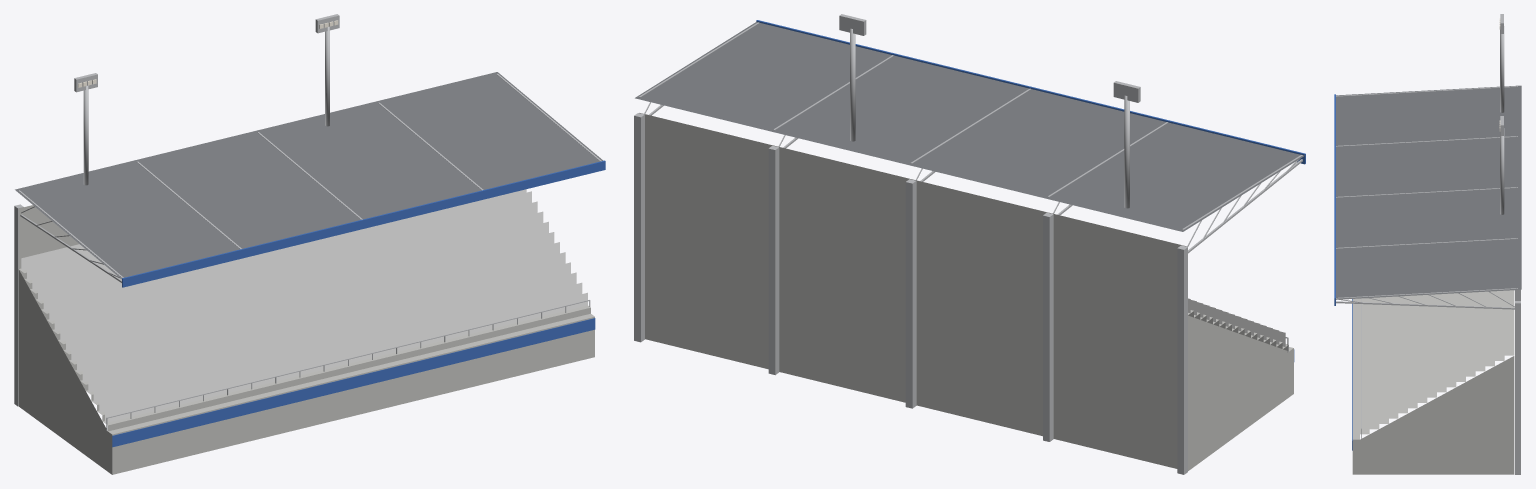
The model's file is grandstand.glb.
3 views of the same model, side by side, from view 1: azimuth 30°, elevation 25°; view 2: azimuth 150°, elevation 25°; view 3: azimuth 270°, elevation 25° (orthographic). The views are drawn at different scales.
Visible parts, largest first — view 1: Crowd_Merged, Roof_Merged, Concrete_Merged, Fascia_Merged, Steel_Merged; view 2: Concrete_Merged, Roof_Merged, Steel_Merged, Fascia_Merged, Crowd_Merged; view 3: Roof_Merged, Concrete_Merged, Steel_Merged, Fascia_Merged.
Part boxes in pixels (box(x1,y1,x2,y2)): Crowd_Merged: box(21, 189, 587, 422); Roof_Merged: box(15, 72, 603, 279); Concrete_Merged: box(18, 205, 594, 474); Fascia_Merged: box(112, 160, 605, 447); Steel_Merged: box(14, 14, 601, 430); Concrete_Merged: box(639, 113, 1293, 470); Roof_Merged: box(635, 22, 1304, 231); Steel_Merged: box(634, 14, 1302, 474); Fascia_Merged: box(756, 20, 1305, 361); Crowd_Merged: box(1188, 298, 1285, 346); Roof_Merged: box(1336, 85, 1521, 299); Concrete_Merged: box(1352, 290, 1514, 474); Steel_Merged: box(1336, 14, 1520, 474); Fascia_Merged: box(1334, 94, 1352, 450).
Size of the model in its own units: 40.1 by 25.38 by 15.51.
